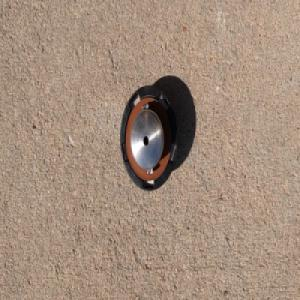FuelCap: (117, 81, 178, 193)
